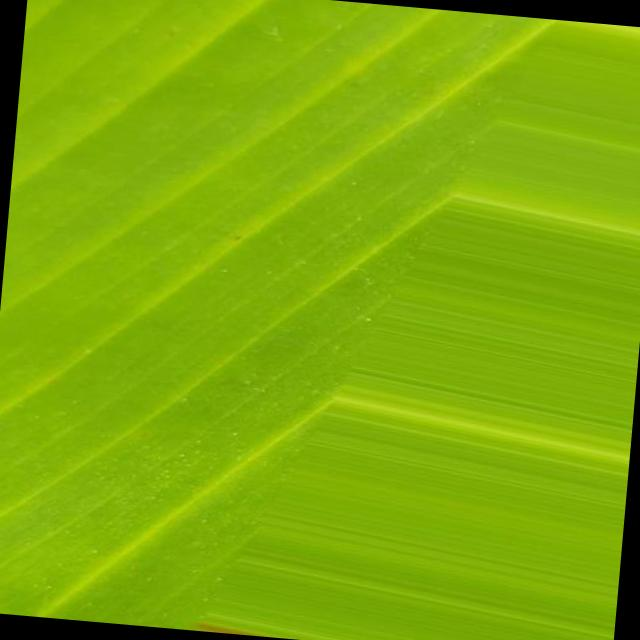Banana_Healthy: (55, 28, 346, 438)
